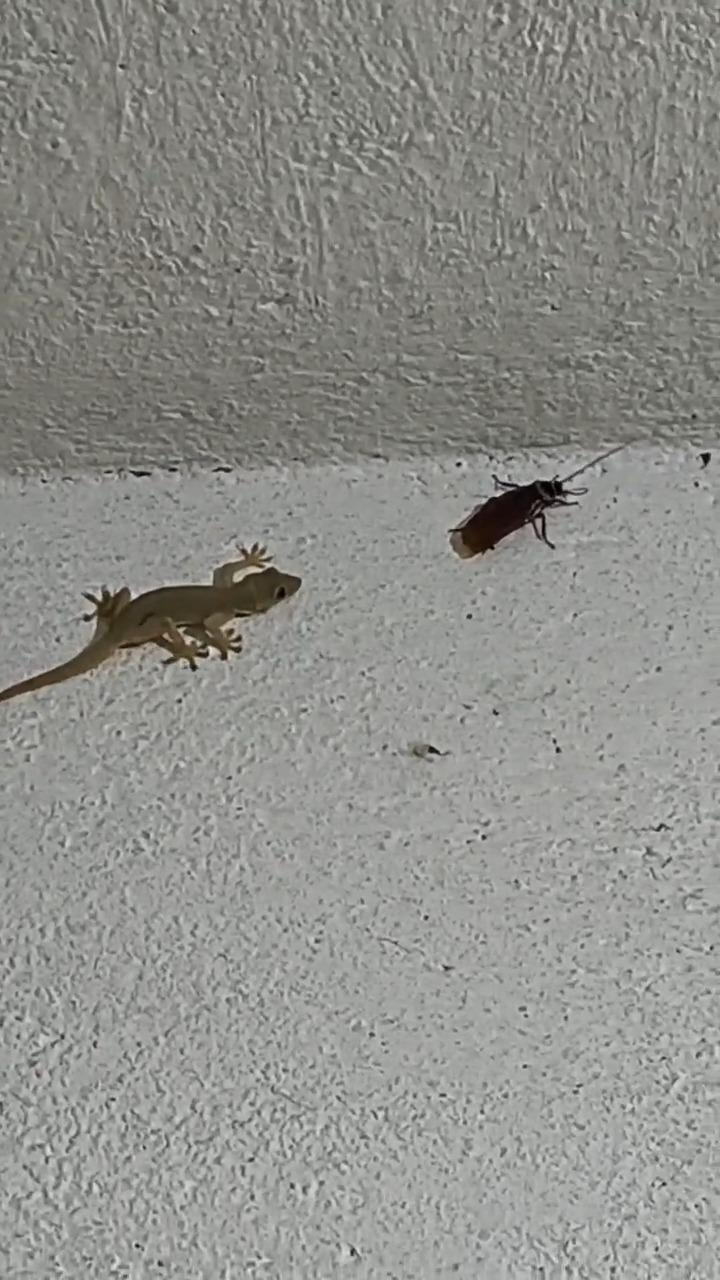cockroach: (436, 458, 631, 574)
lizard: (0, 539, 315, 696)
